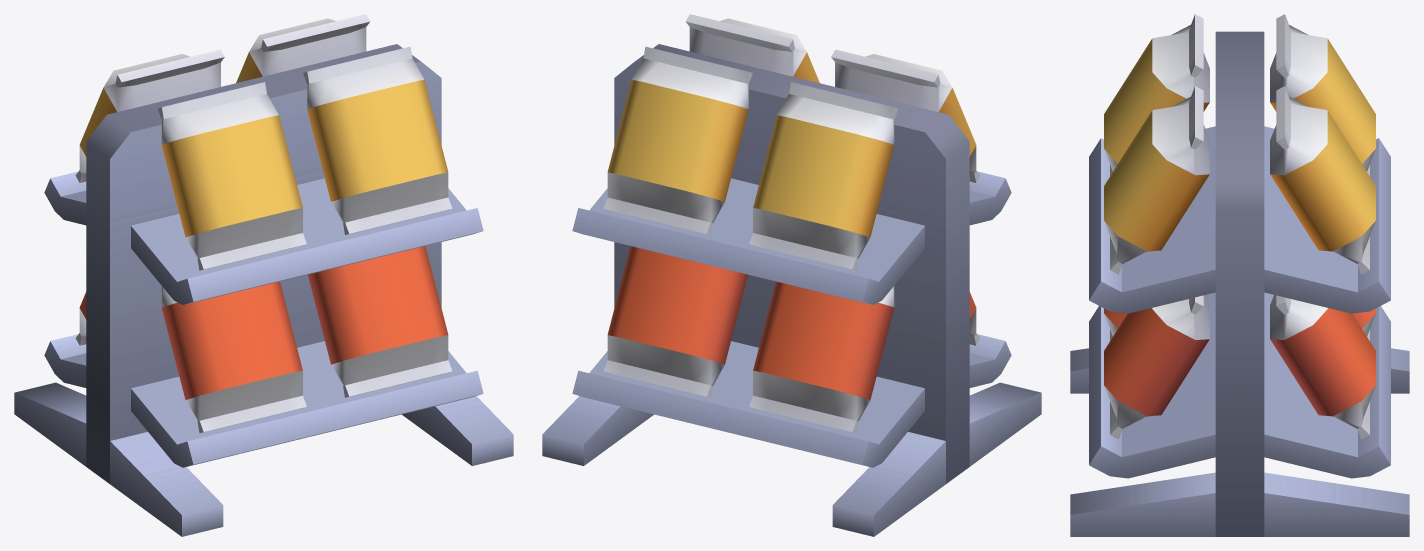
Rendered from kenney-mini-market-shelf-bags.glb.
3 renders of one model, left to right at view 1: azimuth 30°, elevation 25°; view 2: azimuth 150°, elevation 25°; view 3: azimuth 270°, elevation 25°, orthographic.
Visible parts, largest first — view 1: bag (×6), shelf-bags; view 2: bag (×6), shelf-bags; view 3: shelf-bags, bag (×6).
Part boxes in pixels (bbox=[...]): bag (×6): bbox=[75, 14, 452, 433]; shelf-bags: bbox=[14, 44, 513, 536]; bag (×6): bbox=[603, 14, 980, 433]; shelf-bags: bbox=[542, 44, 1041, 536]; shelf-bags: bbox=[1070, 31, 1409, 536]; bag (×6): bbox=[1104, 14, 1375, 439].
Size of the model in its own units: 0.8 by 0.8634 by 0.7.
Materials: 1 (1 with a texture image).
